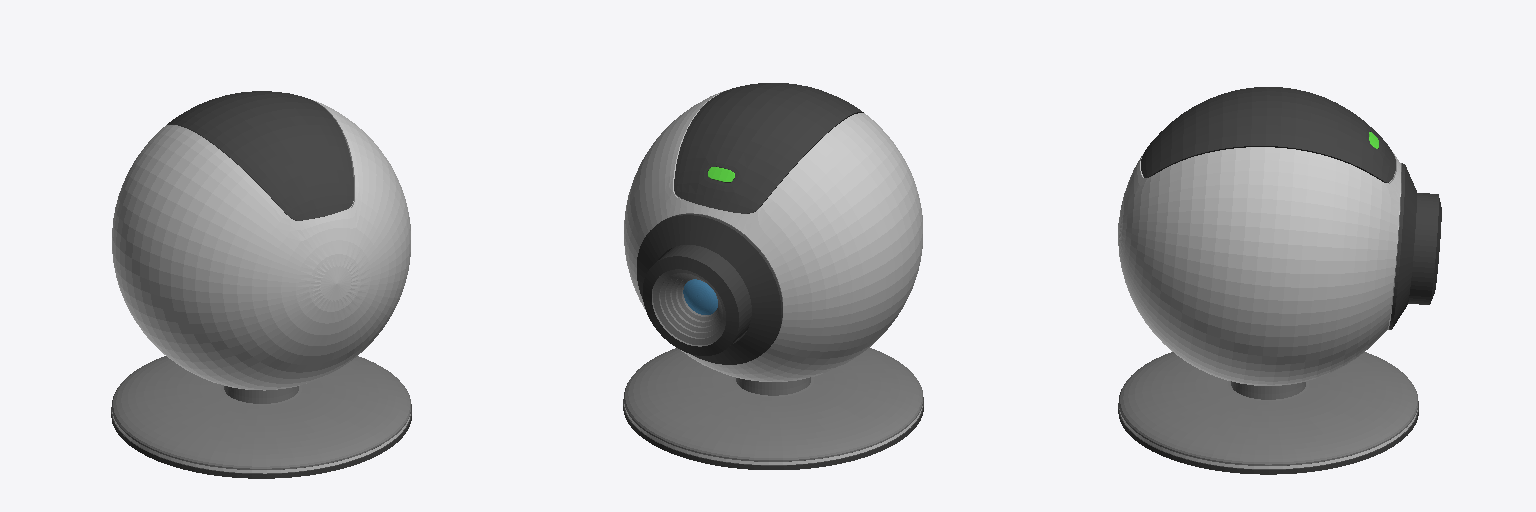
The model's file is wCam.obj.
3 renders of one model, left to right at view 1: azimuth 30°, elevation 25°; view 2: azimuth 150°, elevation 25°; view 3: azimuth 270°, elevation 25°, orthographic.
Visible parts, largest first — view 1: Sphere01, Sphere02; view 2: Sphere01, Sphere02; view 3: Sphere01, Sphere02.
Part boxes in pixels (bbox=[...]): Sphere01: bbox=[112, 91, 410, 390]; Sphere02: bbox=[111, 356, 411, 478]; Sphere01: bbox=[624, 83, 922, 381]; Sphere02: bbox=[623, 347, 923, 469]; Sphere01: bbox=[1118, 87, 1441, 385]; Sphere02: bbox=[1118, 352, 1418, 474].
Bounding box in the file's own units: 79.62 × 90.53 × 85.62.